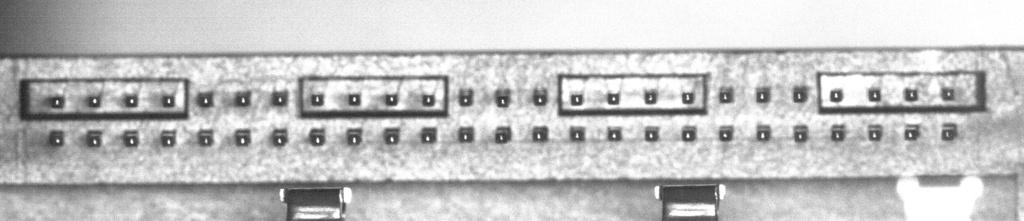pin_ok: (941, 123, 958, 141), (197, 128, 214, 146), (234, 128, 251, 146), (495, 88, 511, 107), (458, 87, 474, 106), (532, 86, 548, 105), (383, 127, 400, 144), (494, 126, 511, 143), (48, 129, 65, 146), (271, 89, 288, 106), (271, 128, 287, 146), (160, 129, 176, 147), (309, 128, 325, 146), (793, 125, 809, 142), (830, 124, 846, 141), (531, 126, 548, 142), (123, 130, 139, 147), (420, 127, 437, 143), (904, 124, 920, 141), (346, 128, 362, 145), (86, 130, 102, 147), (792, 86, 809, 102), (458, 126, 474, 142), (867, 125, 883, 141), (718, 125, 734, 141), (755, 87, 771, 103), (719, 86, 734, 103), (757, 123, 772, 140), (569, 126, 585, 141), (681, 126, 697, 141), (197, 92, 213, 107), (644, 126, 659, 141), (607, 126, 622, 141), (643, 89, 658, 104), (867, 87, 882, 102), (941, 86, 956, 101), (161, 94, 176, 108), (347, 92, 361, 106), (385, 92, 399, 106), (310, 92, 324, 106), (681, 90, 695, 104), (236, 92, 250, 106), (904, 87, 918, 101), (829, 88, 843, 102), (606, 91, 620, 104), (422, 92, 435, 106), (570, 92, 583, 105), (125, 94, 138, 107), (87, 95, 100, 107), (50, 96, 63, 108)
